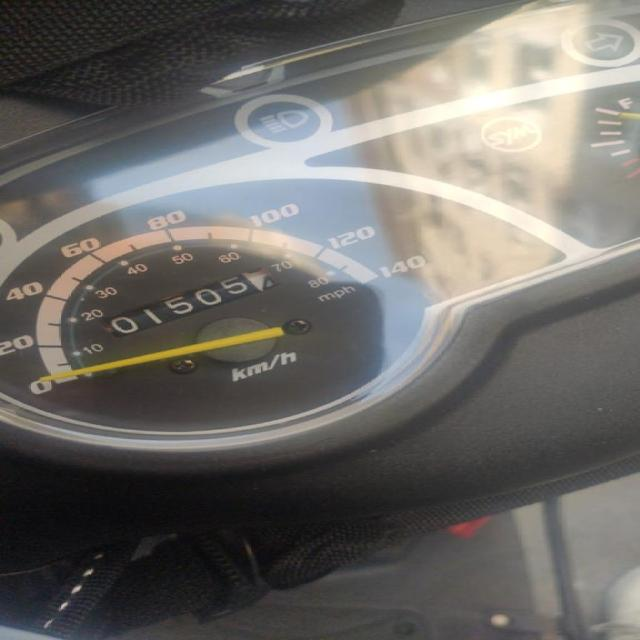odometer: (94, 264, 288, 339)
